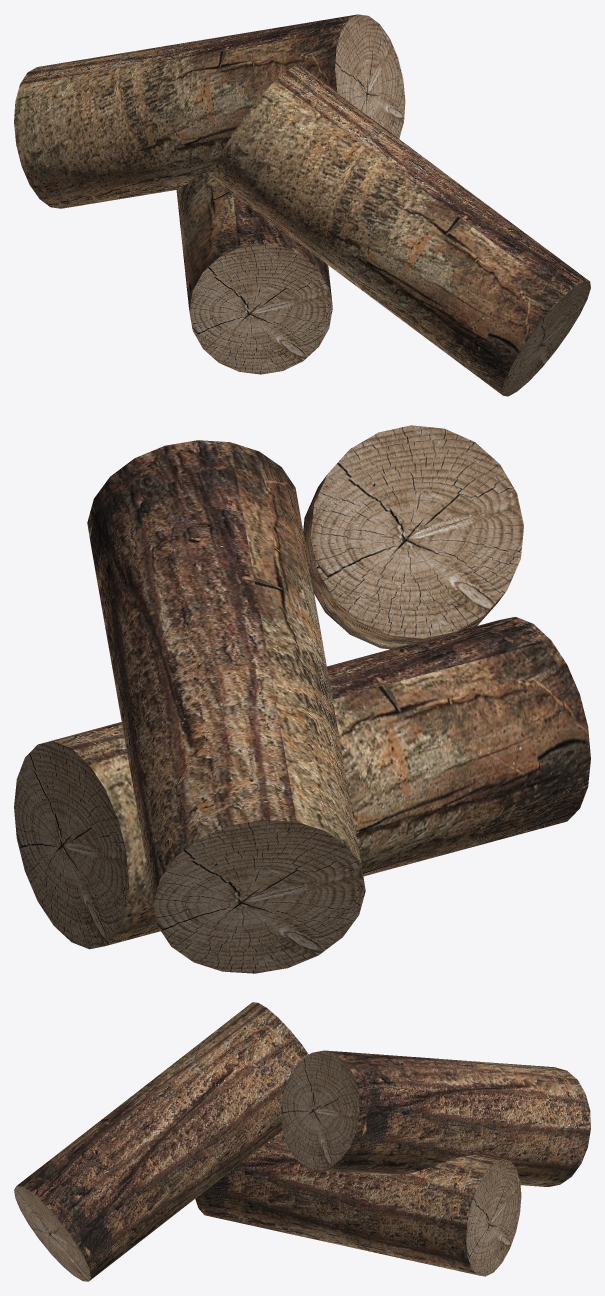
Rendered from madera.obj.
3 renders of one model, top to bottom at view 1: azimuth 30°, elevation 25°; view 2: azimuth 150°, elevation 25°; view 3: azimuth 270°, elevation 25°, orthographic. The views are drawn at different scales.
Visible parts, largest first — view 1: chimeneaCompleta:pCylinder4; view 2: chimeneaCompleta:pCylinder4; view 3: chimeneaCompleta:pCylinder4.
Part boxes in pixels (x1,y1,x2,y2): chimeneaCompleta:pCylinder4: [14, 14, 590, 396]; chimeneaCompleta:pCylinder4: [14, 425, 590, 973]; chimeneaCompleta:pCylinder4: [14, 1002, 590, 1281].
Size of the model in its own units: 32.31 by 27.42 by 63.34.
Materials: 2 (2 with a texture image).
